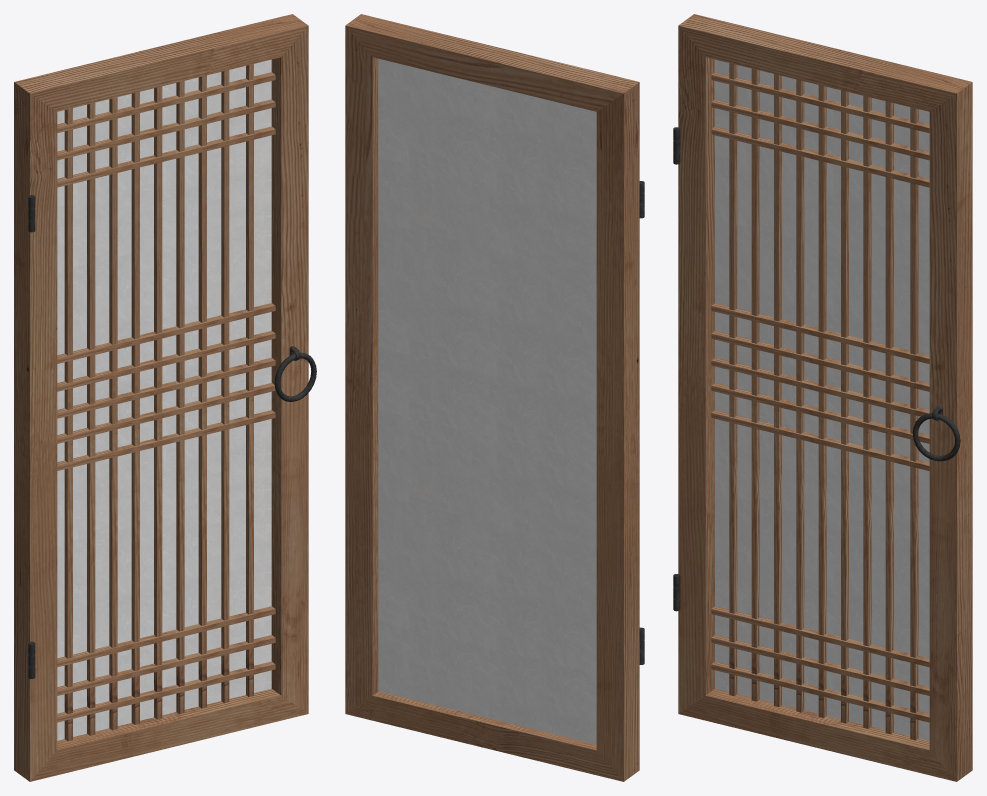
Rendered from SM_Yeonkyung_Sarangchae_Win_A_001.fbx.
The picture shows the model from 3 angles, left to right: view 1: azimuth 30°, elevation 25°; view 2: azimuth 150°, elevation 25°; view 3: azimuth 330°, elevation 25°; orthographic projection.
Parts seen in each view (by area): view 1: SM_Yeonkyung_Sarangchae_Win_A_001; view 2: SM_Yeonkyung_Sarangchae_Win_A_001; view 3: SM_Yeonkyung_Sarangchae_Win_A_001.
Part boxes in pixels (left/top/right/bottom): SM_Yeonkyung_Sarangchae_Win_A_001: left=14, top=14, right=316, bottom=781; SM_Yeonkyung_Sarangchae_Win_A_001: left=345, top=14, right=644, bottom=781; SM_Yeonkyung_Sarangchae_Win_A_001: left=673, top=14, right=972, bottom=781.
Bounding box in the file's own units: 59.89 × 137 × 8.11.
